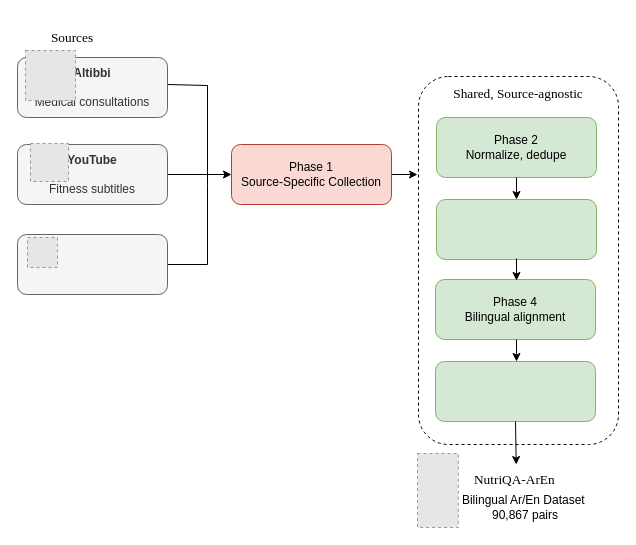
This 636x545 diagram has some shape labels left out. Grey dashed boxes stand in for pictures. The box of each missing label's shape, as (x1, y1, x2, y2) in pixels:
Nutrition Books OCR-digitized: (16, 234, 168, 294)
Phase 3 QA Generation (LLM): (436, 198, 596, 260)
Phase 5 Quality Validation: (434, 360, 596, 422)
